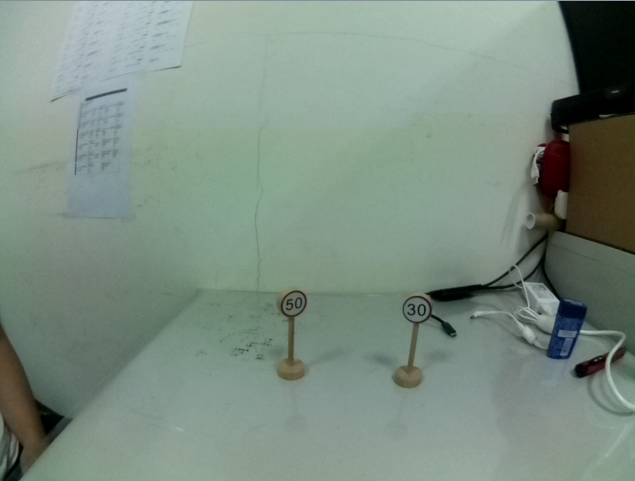Speed30: (400, 293, 432, 327)
Speed50: (275, 285, 309, 317)
